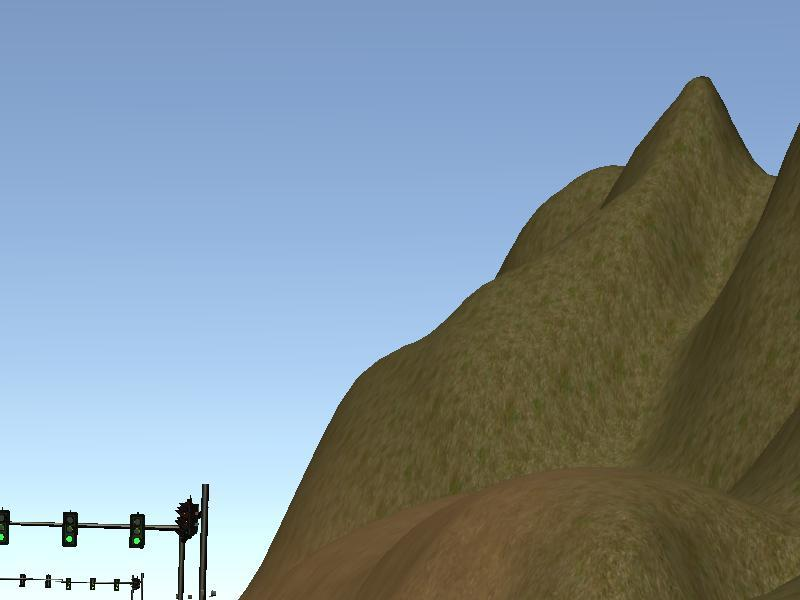Green: (130, 514, 145, 548), (62, 512, 77, 546), (1, 510, 9, 546)
